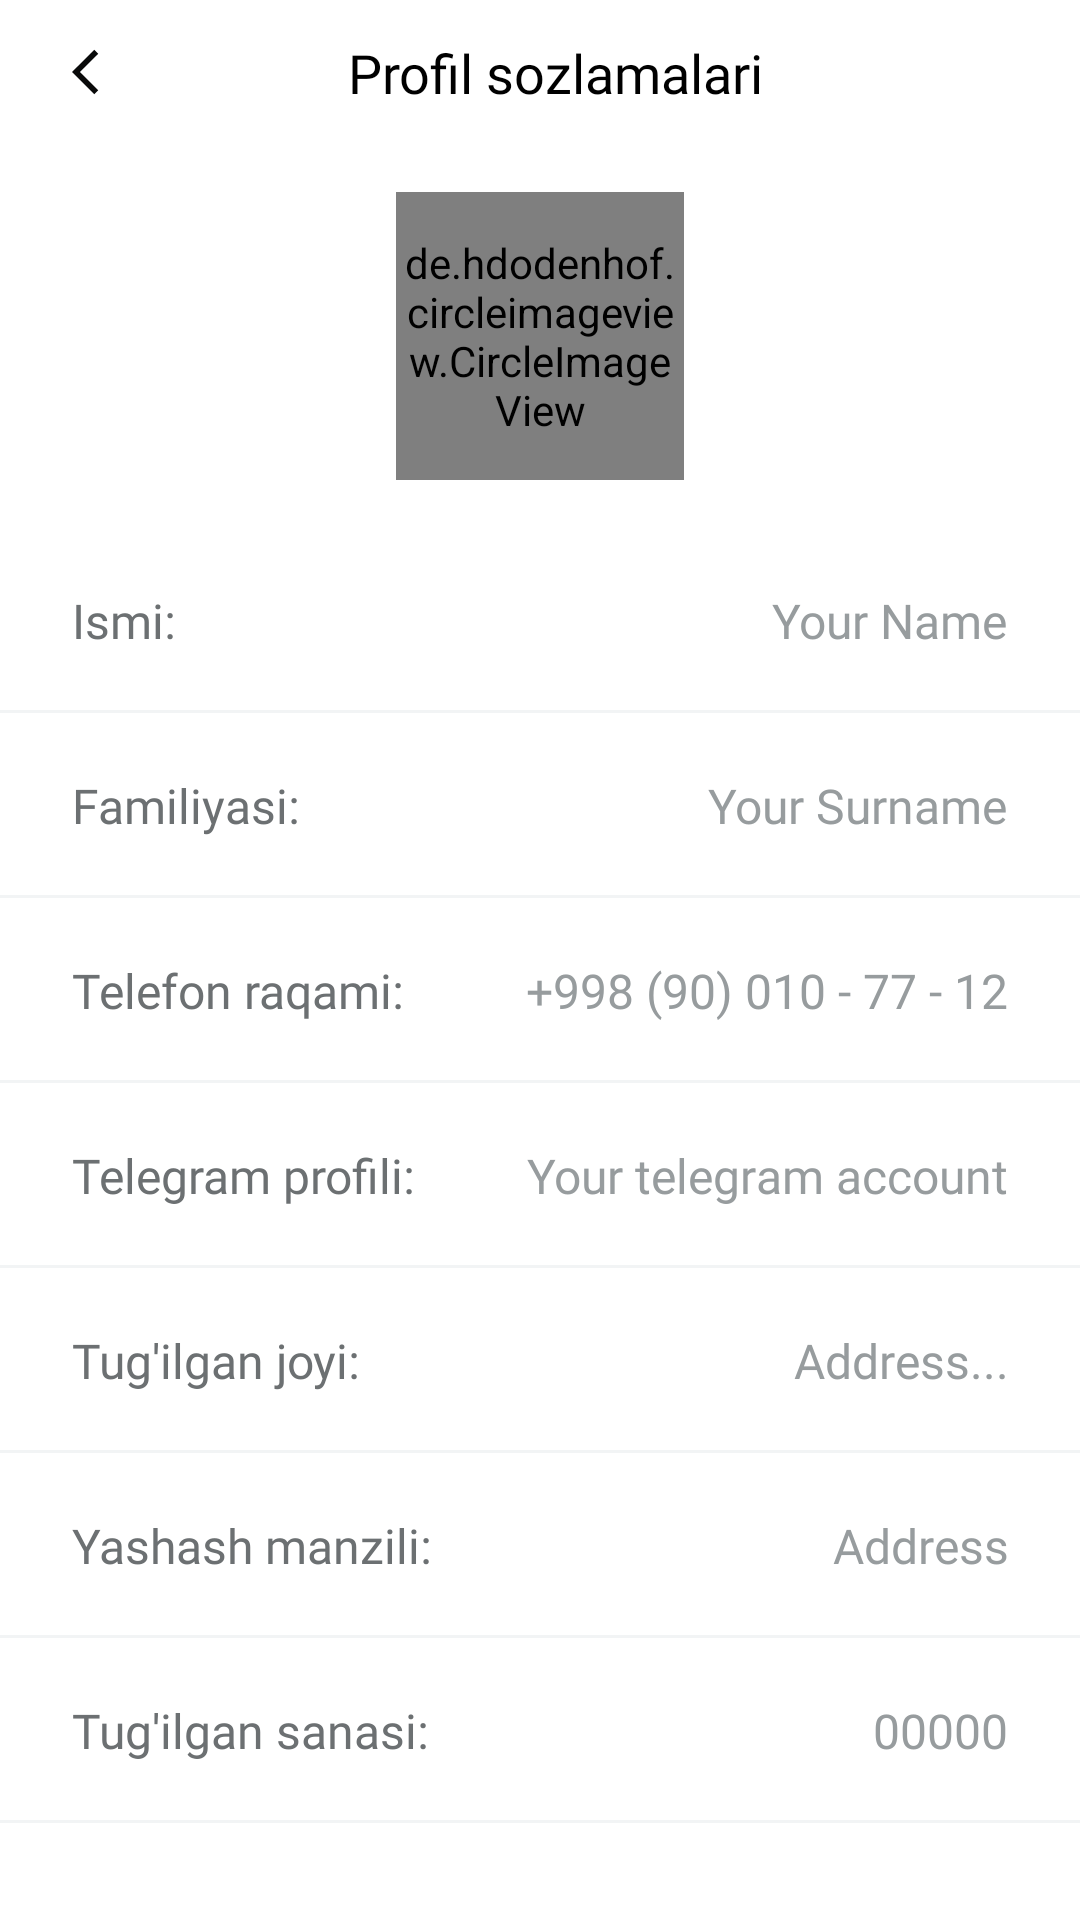

Named icons in this screenshot (1080w x 1920h) and their bounding boxes, (x1, y1, x2, y2):
back: (72, 50, 98, 94)
